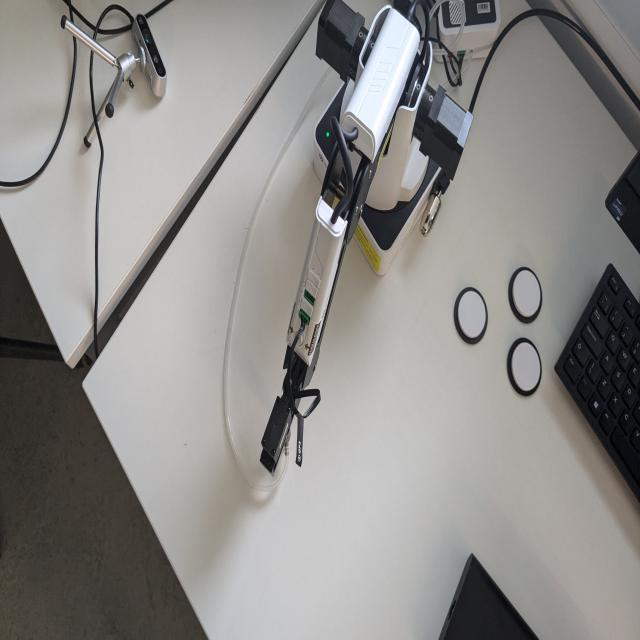Robot-end-effector-HF8z: (253, 391, 298, 482)
